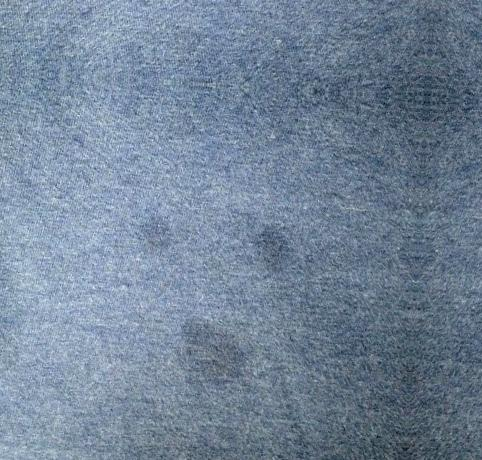stain: (177, 313, 256, 396), (247, 217, 298, 274), (140, 210, 179, 253)
